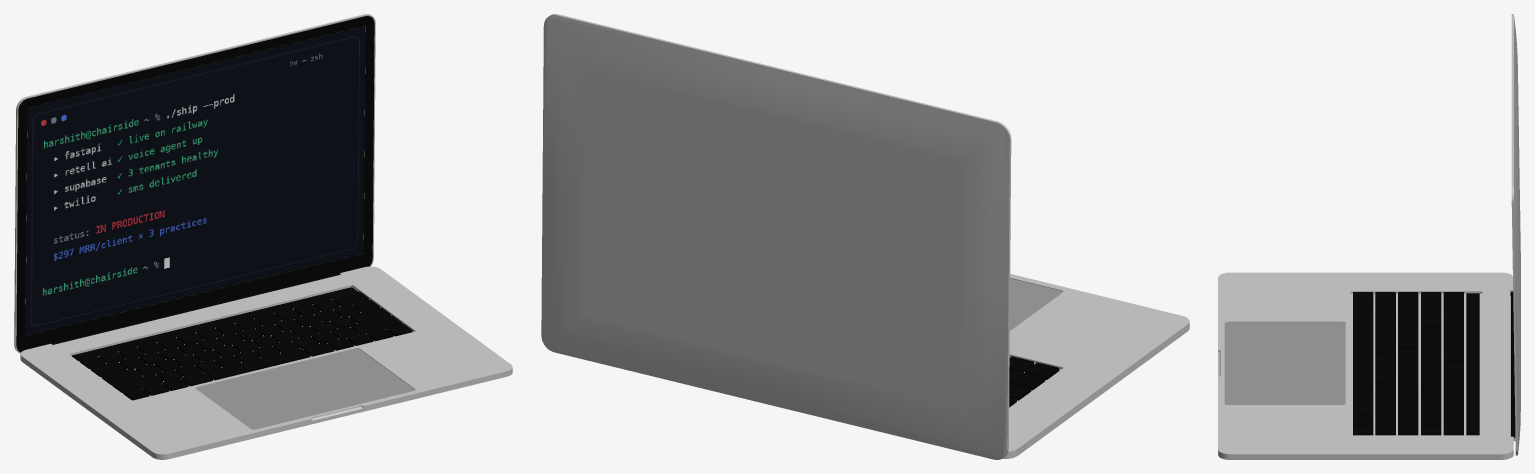
File: macbook.glb
3 renders of one model, left to right at view 1: azimuth 30°, elevation 25°; view 2: azimuth 150°, elevation 25°; view 3: azimuth 270°, elevation 25°, orthographic. The views are drawn at different scales.
Parts seen in each view (by area): view 1: screen, base, keyboard, touchbar; view 2: screen, base, keyboard; view 3: base, keyboard, screen, touchbar.
Boxes of the visible parts, <box> form: screen: <box>14,14,375,353</box>; base: <box>20,266,512,459</box>; keyboard: <box>79,291,412,400</box>; touchbar: <box>72,287,358,360</box>; screen: <box>541,14,1011,459</box>; base: <box>1002,274,1189,458</box>; keyboard: <box>1009,356,1059,407</box>; base: <box>1218,272,1513,459</box>; keyboard: <box>1353,292,1463,435</box>; screen: <box>1510,14,1520,455</box>; touchbar: <box>1466,293,1479,435</box>.
Size of the model in its own units: 8.81 by 6.16 by 6.2.
6 materials, 1 textured.
